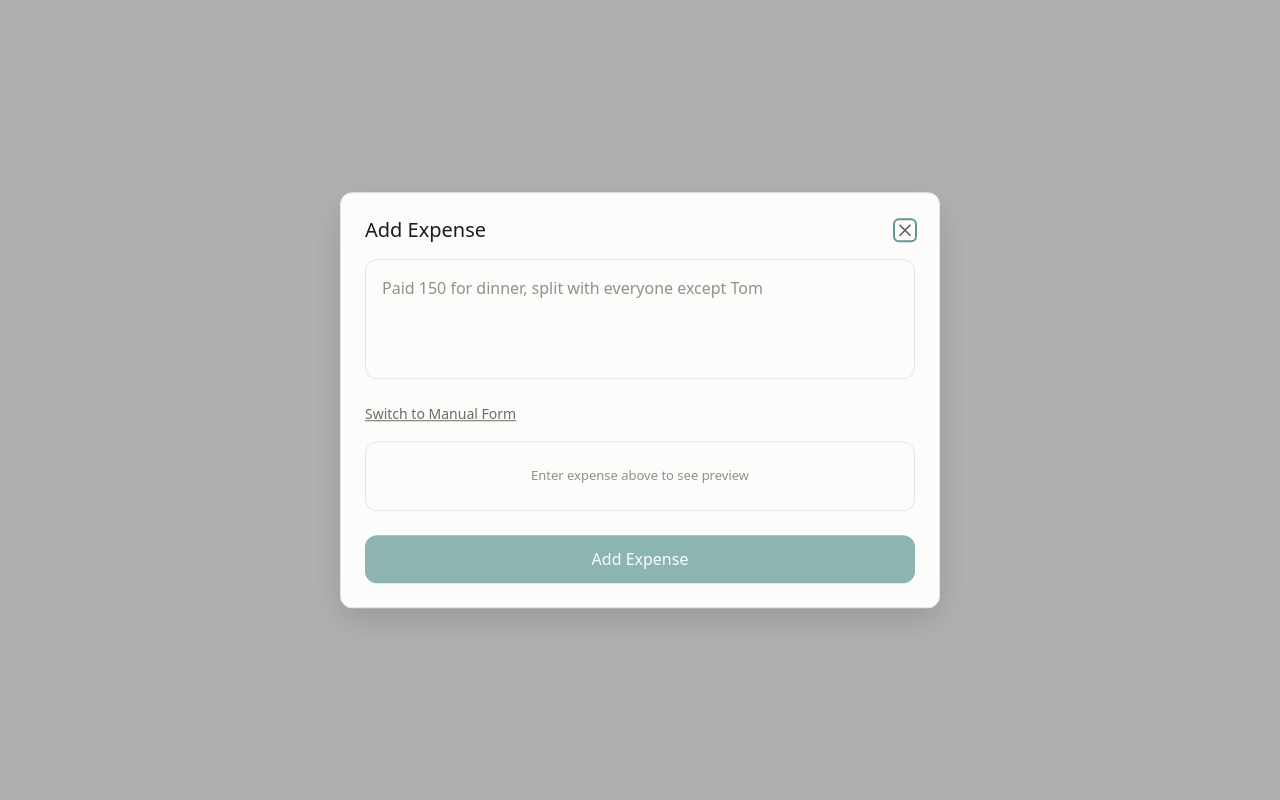
SmartInputModal › AI Parse Flow › streams commentary chunks and shows the editable preview
Type "Paid 60 for lunch" into the text box with placeholder "Paid 150 for dinner, split with everyone except Tom" at [640, 319], box [365, 259, 915, 379]
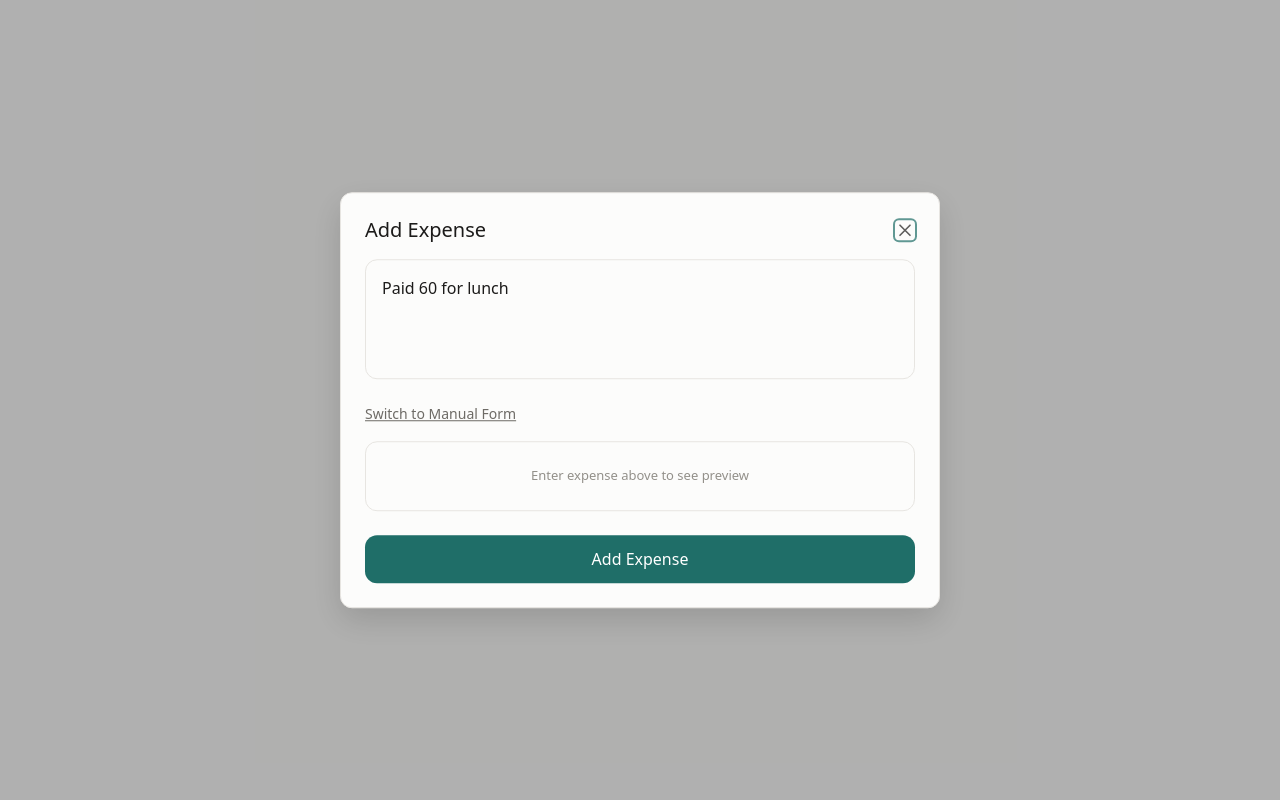
Click the button "Add Expense" at [640, 559], box [365, 535, 915, 583]
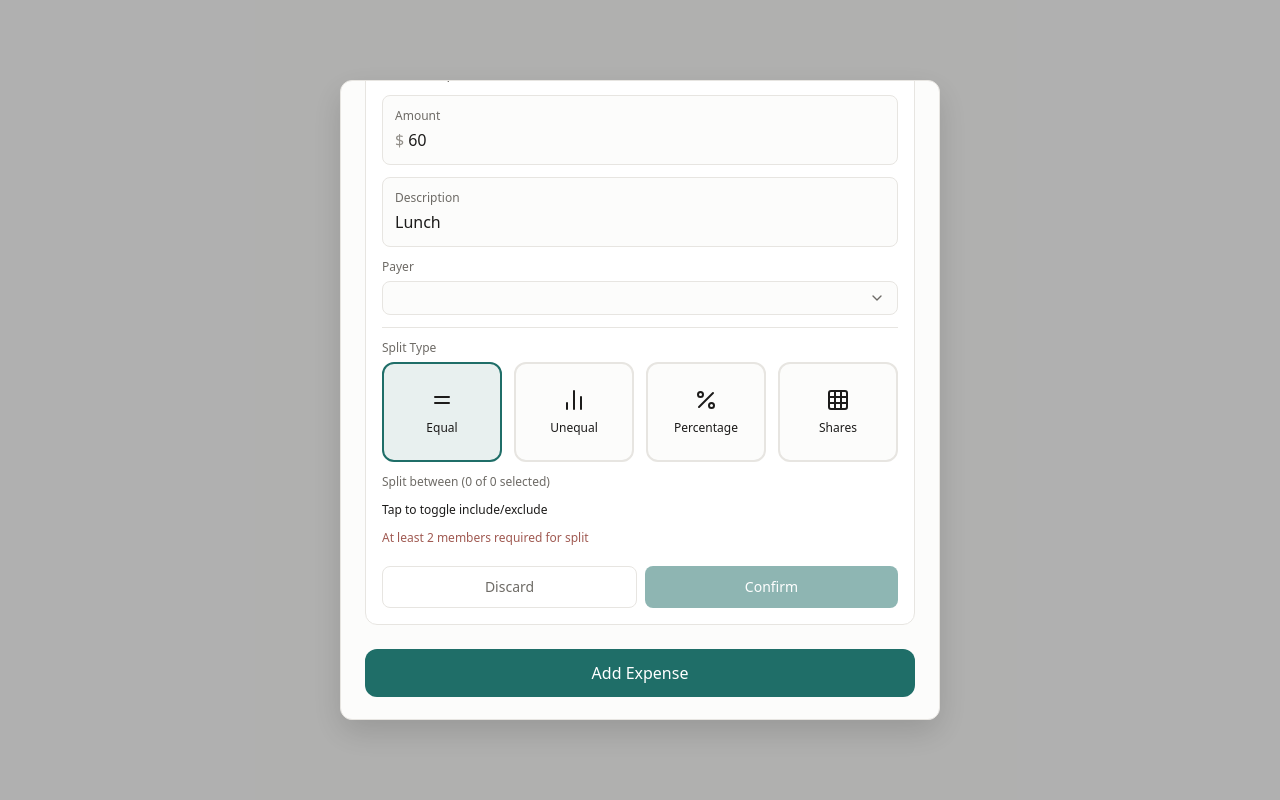
expect the button "Confirm" is shown: met, box [645, 566, 898, 608]
